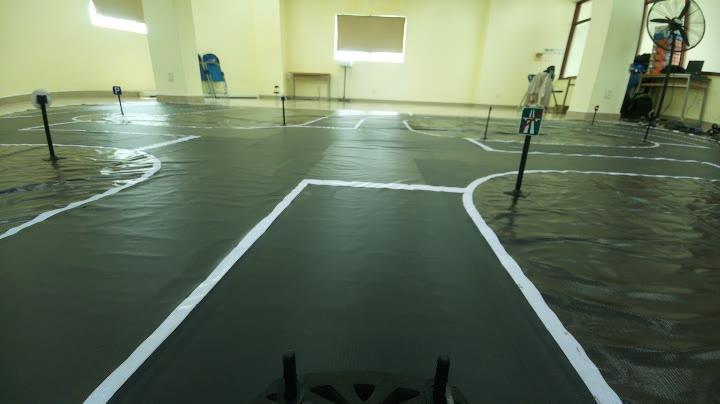highway_exit: (520, 106, 545, 138)
